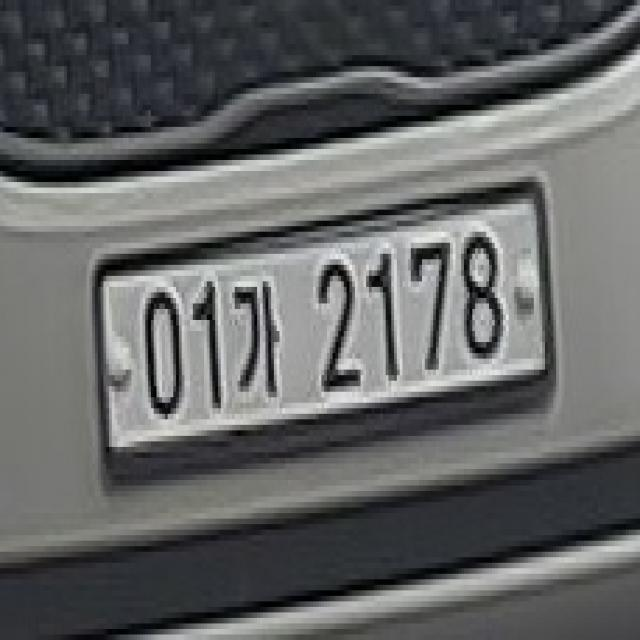0: (138, 288, 185, 422)
1: (186, 268, 224, 414), (367, 241, 402, 391)
2: (312, 248, 364, 398)
7: (410, 230, 456, 376)
8: (460, 221, 510, 365)
ga: (231, 272, 285, 406)
license_plate: (78, 161, 592, 517)
